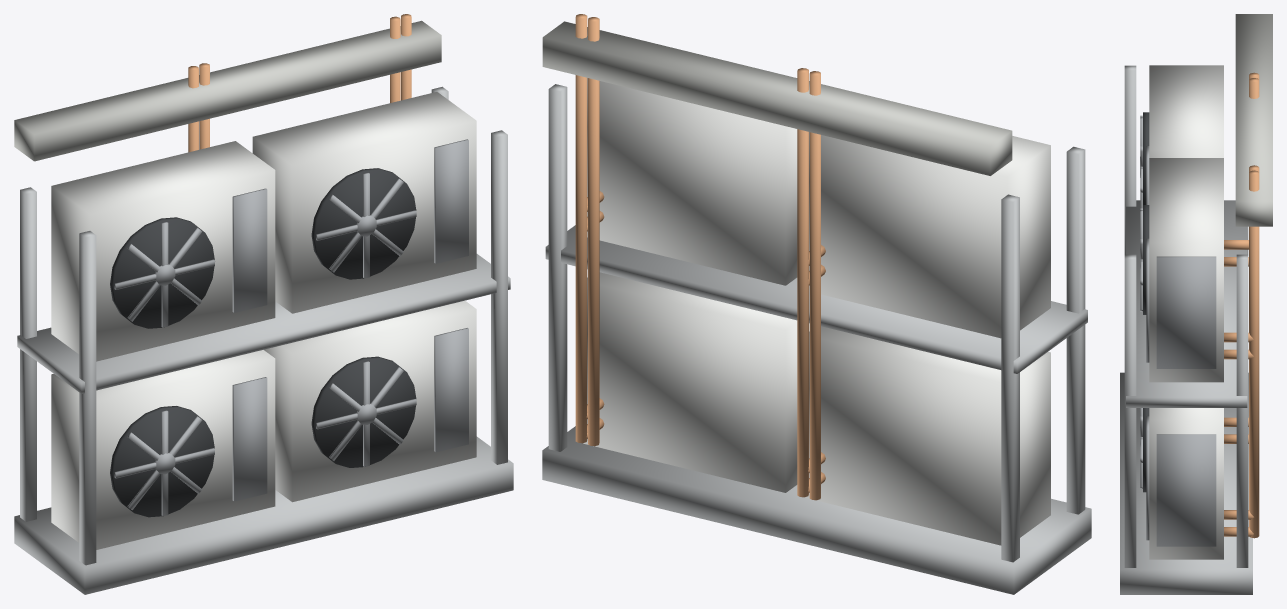
File: roof_ac_cluster.glb
3 renders of one model, left to right at view 1: azimuth 30°, elevation 25°; view 2: azimuth 150°, elevation 25°; view 3: azimuth 270°, elevation 25°, orthographic. The views are drawn at different scales.
Visible parts, largest first — view 1: roof_ac_cluster; view 2: roof_ac_cluster; view 3: roof_ac_cluster.
Part boxes in pixels (x1,y1,x2,y2): roof_ac_cluster: (14, 14, 513, 594); roof_ac_cluster: (542, 14, 1091, 594); roof_ac_cluster: (1120, 14, 1272, 594).
Size of the model in its own units: 2 by 1.92 by 0.6551.
